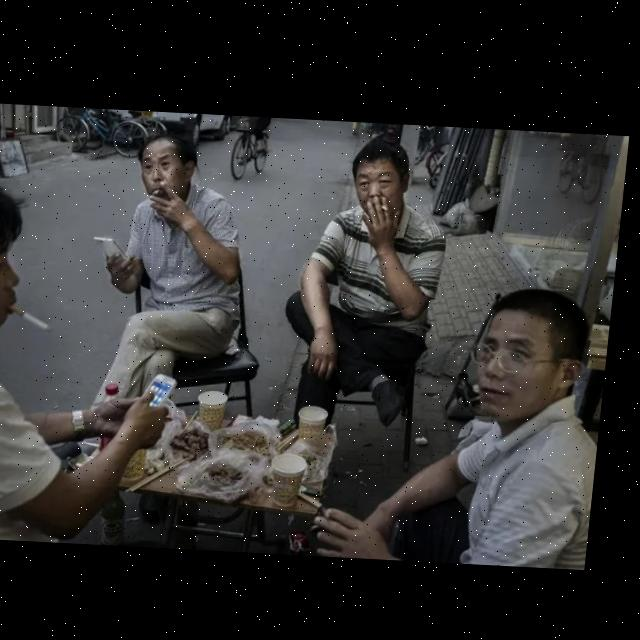cigarette: (14, 305, 60, 332), (336, 503, 344, 516), (156, 186, 166, 194), (385, 200, 392, 207)
